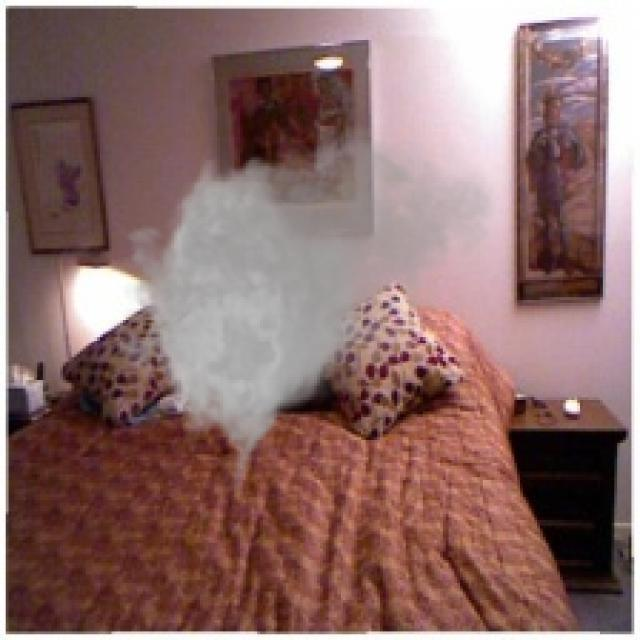Smoke: (100, 117, 503, 500)
